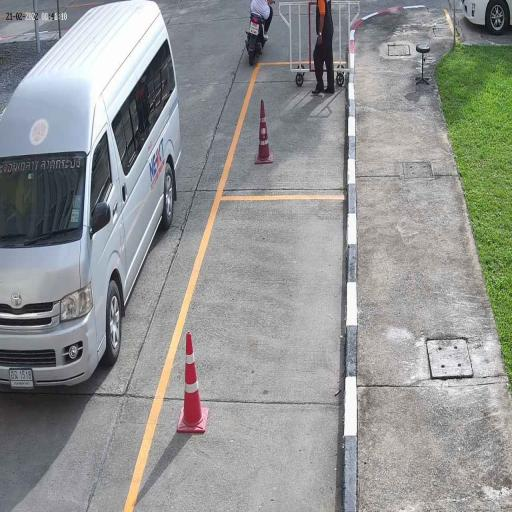car: (0, 0, 182, 389)
motorcycle: (246, 10, 266, 66)
